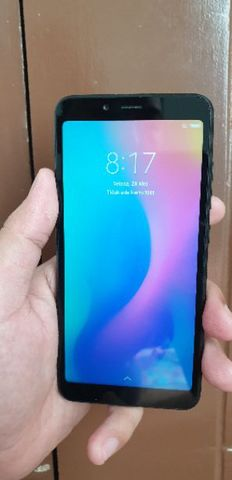Handphone: (49, 90, 211, 412)
